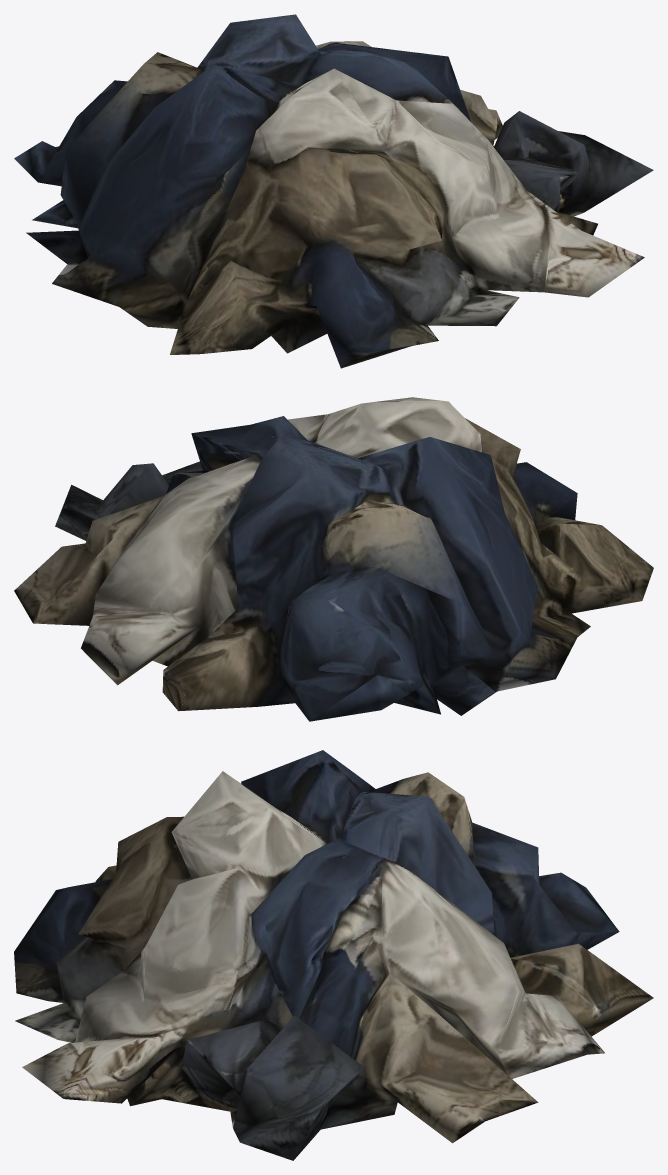
The model's file is tripo_convert_31fa1b6a-e3c6-4fc9-80fa-e4aab625cc36.fbx.
3 renders of one model, top to bottom at view 1: azimuth 30°, elevation 25°; view 2: azimuth 150°, elevation 25°; view 3: azimuth 270°, elevation 25°, orthographic. The views are drawn at different scales.
Visible parts, largest first — view 1: tripo_node_31fa1b6a; view 2: tripo_node_31fa1b6a; view 3: tripo_node_31fa1b6a.
Boxes of the visible parts, bbox=[...] form: tripo_node_31fa1b6a: bbox=[14, 14, 653, 368]; tripo_node_31fa1b6a: bbox=[14, 397, 653, 721]; tripo_node_31fa1b6a: bbox=[14, 750, 653, 1160].
Size of the model in its own units: 0.9718 by 0.3629 by 0.9318.
1 material, 1 textured.
